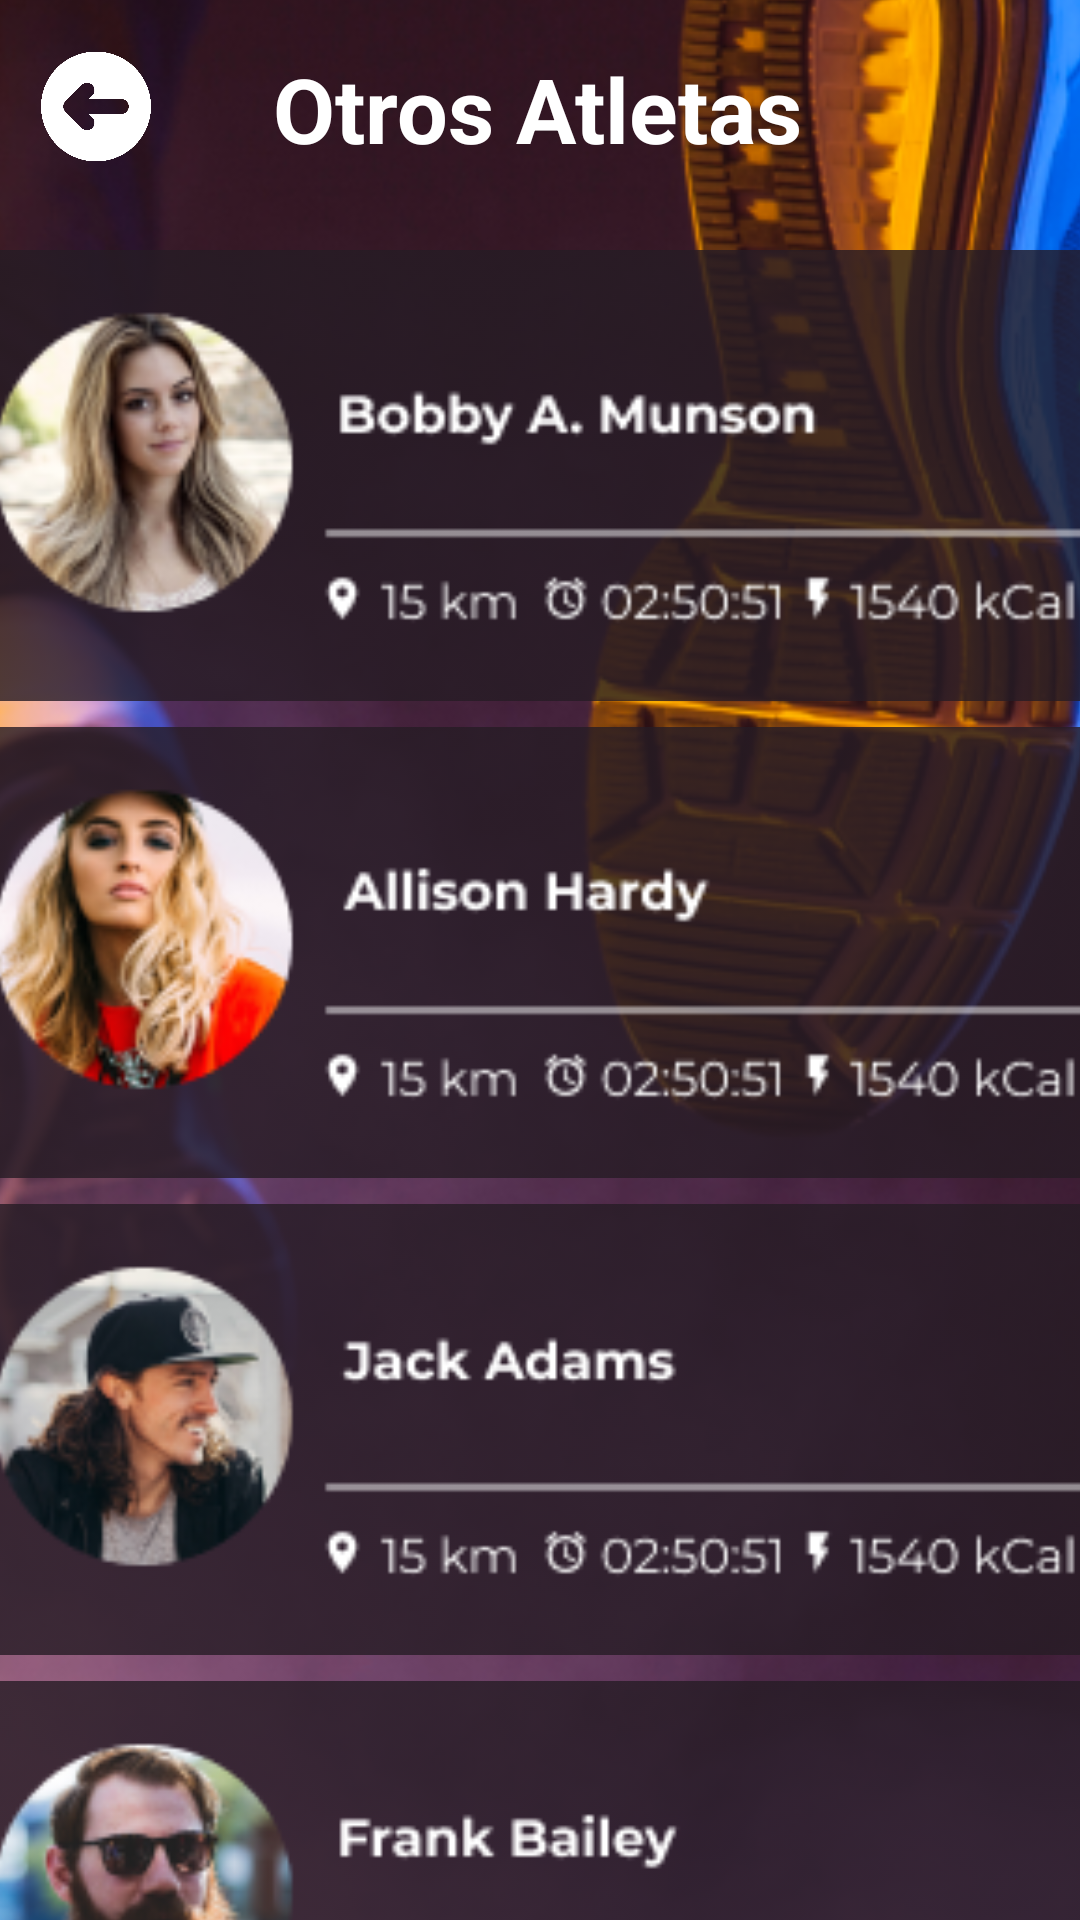

Named icons in this screenshot (1080×1920) and their centers, point (x, y):
regresar: point (96, 106)
